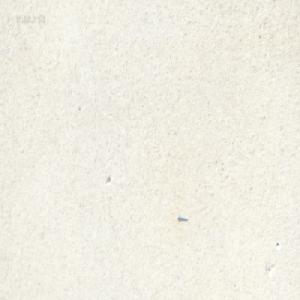Nail: (177, 214, 187, 222)
